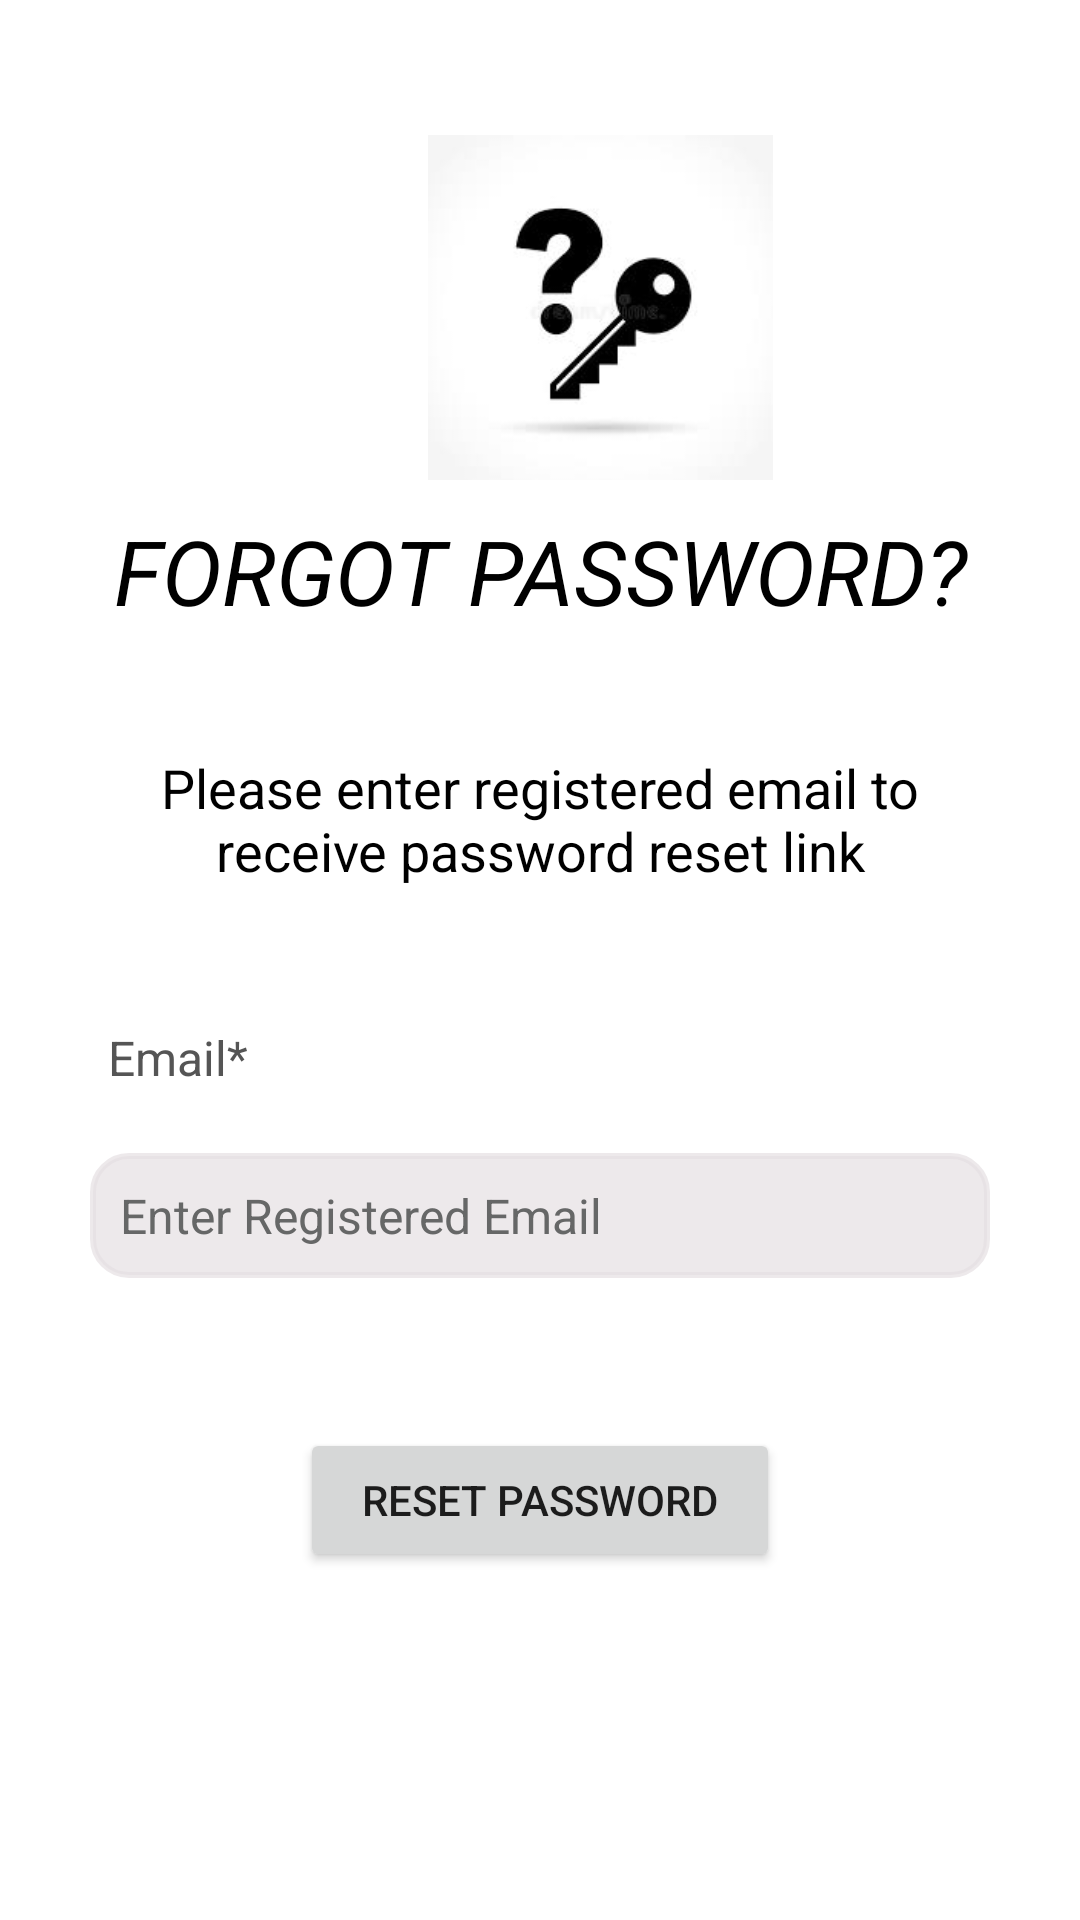

Screen size 1080w x 1920h. Icon name, then its box in pixels as (x1, y1, x2, y2):
forgotpwd: (515, 208, 692, 432)
